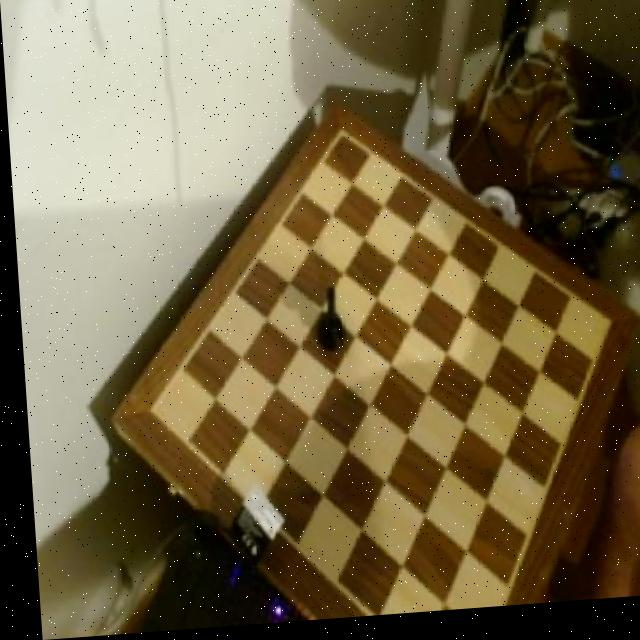black-king: (303, 281, 343, 361)
